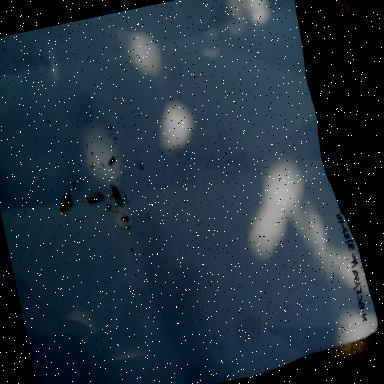pbw: (83, 187, 109, 208), (55, 190, 76, 215), (108, 182, 126, 210), (104, 152, 118, 168)
